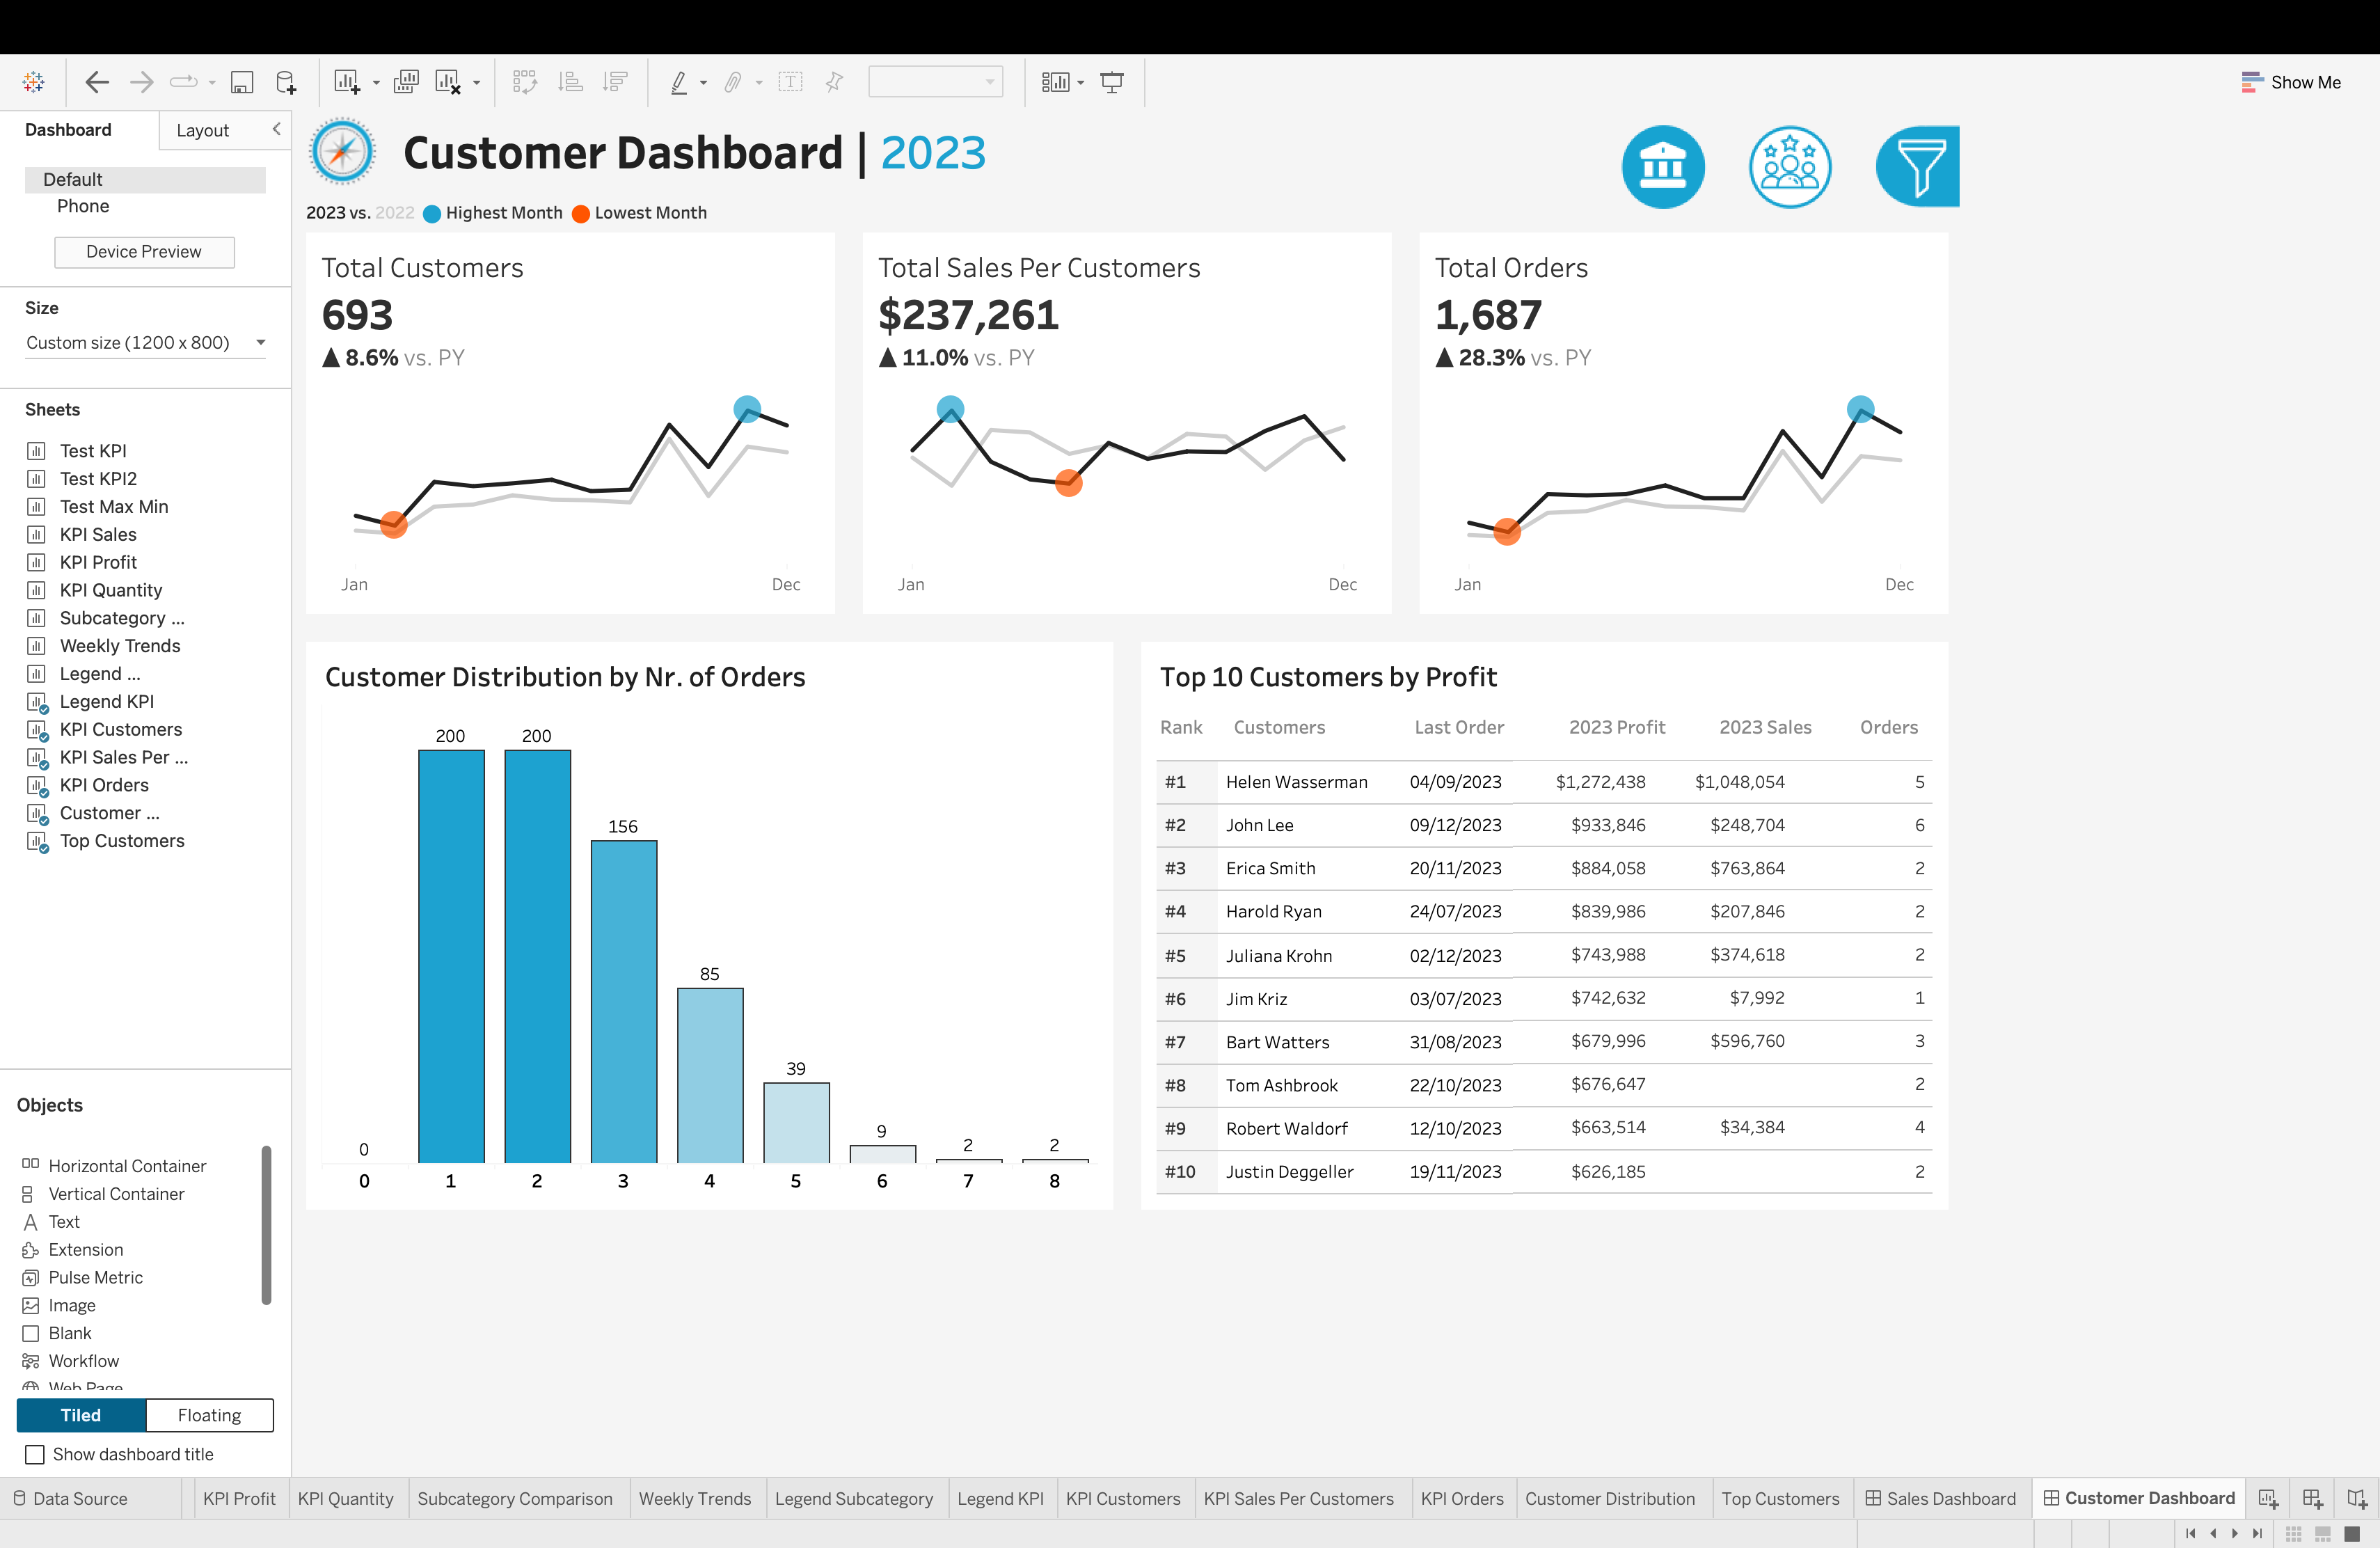

This screenshot's page, from the dashboard's own definition file:
{"tool":"tableau","page":{"name":"Customer Dashboard","canvas":[1200,800],"ordinal":0},"visuals":[{"type":"image","param":"Image/Icon - Logo.png","box":[0,0,73,59]},{"type":"text","box":[73,0,820,59]},{"type":"dashboard-object","box":[940,6,91,70]},{"type":"dashboard-object","box":[1031,6,91,70]},{"type":"blank","box":[952,10,237,86]},{"type":"worksheet","title":"Legend KPI","mark":"Automatic","box":[0,59,1200,29]},{"type":"worksheet","title":"KPI Customers","mark":"Automatic","rows":["Min/Max Quantity (copy)_3221481164588691468"],"cols":["Order Date"],"box":[0,88,400,284]},{"type":"worksheet","title":"KPI Sales Per Customers","mark":"Automatic","rows":["Min/Max Quantity (copy)_3221481164537155591"],"cols":["Order Date"],"box":[400,88,400,284]},{"type":"worksheet","title":"KPI Orders","mark":"Automatic","rows":["Min/Max Sales (copy)_3221481164601258003"],"cols":["Order Date"],"box":[800,88,400,284]},{"type":"text","box":[952,96,237,34]},{"type":"parameter","param":"[Parameters].[Parameter 1]","box":[952,130,237,52]},{"type":"text","box":[952,182,237,29]},{"type":"filter","title":"KPI Customers","param":"[federated.1kpxa041aiai2y1cl4pui1t4eju9].[none:Category:nk]","box":[952,211,237,52]},{"type":"filter","title":"KPI Customers","param":"[federated.1kpxa041aiai2y1cl4pui1t4eju9].[none:Sub-Category:nk]","box":[952,263,237,52]},{"type":"blank","box":[952,315,237,60]},{"type":"text","box":[952,375,237,29]},{"type":"text","box":[17,389,566,34]},{"type":"text","box":[617,389,566,34]},{"type":"filter","title":"KPI Customers","param":"[federated.1kpxa041aiai2y1cl4pui1t4eju9].[none:Region:nk]","box":[952,404,237,52]},{"type":"worksheet","title":"Customer Distribution","mark":"Bar","rows":["CY Sales (copy)_3221481164532666369"],"cols":["Calculation_998110323739992064"],"box":[17,423,566,360]},{"type":"text","box":[617,423,53,40]},{"type":"text","box":[670,423,130,40]},{"type":"text","box":[800,423,111,40]},{"type":"text","box":[911,423,108,40]},{"type":"text","box":[1019,423,101,40]},{"type":"text","box":[1120,423,63,40]},{"type":"filter","title":"KPI Customers","param":"[federated.1kpxa041aiai2y1cl4pui1t4eju9].[none:State:nk]","box":[952,456,237,52]},{"type":"worksheet","title":"Top Customers","mark":"Automatic","rows":["Calculation_782500491678904334","Customer Name","Order Date"],"box":[617,463,566,320]},{"type":"filter","title":"KPI Customers","param":"[federated.1kpxa041aiai2y1cl4pui1t4eju9].[none:City:nk]","box":[952,508,237,52]}]}

Visuals, with their boxes on the page's 1200x800 design canvas (x1, y1, x2, y2). These are canvas units, not pixel positions in the 2380x1548 screenshot, which may show the page scaled, cropped or inside an application window:
image: bbox(0, 0, 73, 59)
text: bbox(73, 0, 893, 59)
dashboard-object: bbox(940, 6, 1031, 76)
dashboard-object: bbox(1031, 6, 1122, 76)
blank: bbox(952, 10, 1189, 96)
"Legend KPI" worksheet: bbox(0, 59, 1200, 88)
"KPI Customers" worksheet: bbox(0, 88, 400, 372)
"KPI Sales Per Customers" worksheet: bbox(400, 88, 800, 372)
"KPI Orders" worksheet: bbox(800, 88, 1200, 372)
text: bbox(952, 96, 1189, 130)
parameter: bbox(952, 130, 1189, 182)
text: bbox(952, 182, 1189, 211)
"KPI Customers" filter: bbox(952, 211, 1189, 263)
"KPI Customers" filter: bbox(952, 263, 1189, 315)
blank: bbox(952, 315, 1189, 375)
text: bbox(952, 375, 1189, 404)
text: bbox(17, 389, 583, 423)
text: bbox(617, 389, 1183, 423)
"KPI Customers" filter: bbox(952, 404, 1189, 456)
"Customer Distribution" worksheet (Bar marks): bbox(17, 423, 583, 783)
text: bbox(617, 423, 670, 463)
text: bbox(670, 423, 800, 463)
text: bbox(800, 423, 911, 463)
text: bbox(911, 423, 1019, 463)
text: bbox(1019, 423, 1120, 463)
text: bbox(1120, 423, 1183, 463)
"KPI Customers" filter: bbox(952, 456, 1189, 508)
"Top Customers" worksheet: bbox(617, 463, 1183, 783)
"KPI Customers" filter: bbox(952, 508, 1189, 560)
